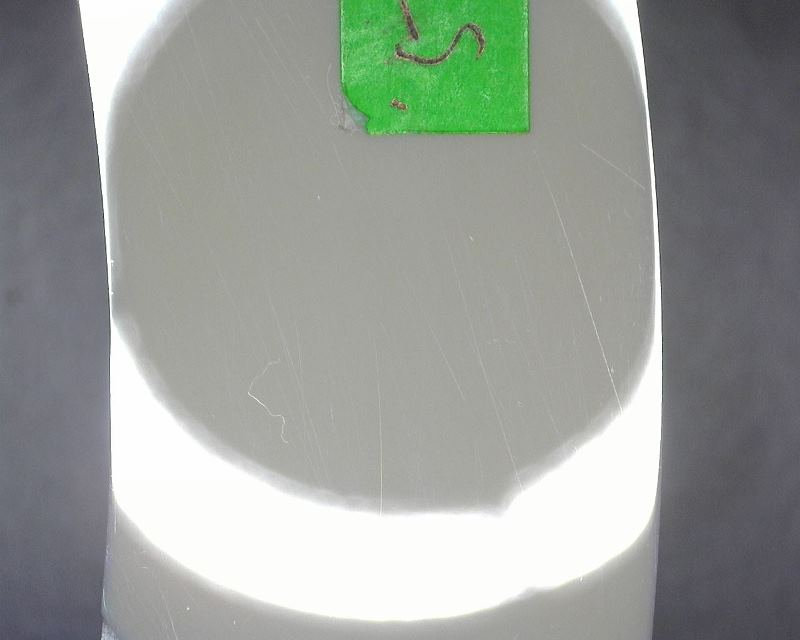scratch: (542, 172, 594, 338), (247, 358, 295, 450), (372, 341, 387, 511), (597, 321, 620, 404), (602, 151, 647, 193)
